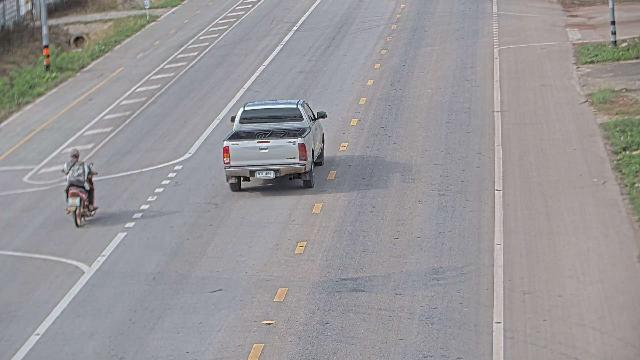motorcycle: (62, 157, 97, 229)
pickup-truck: (221, 98, 327, 192)
